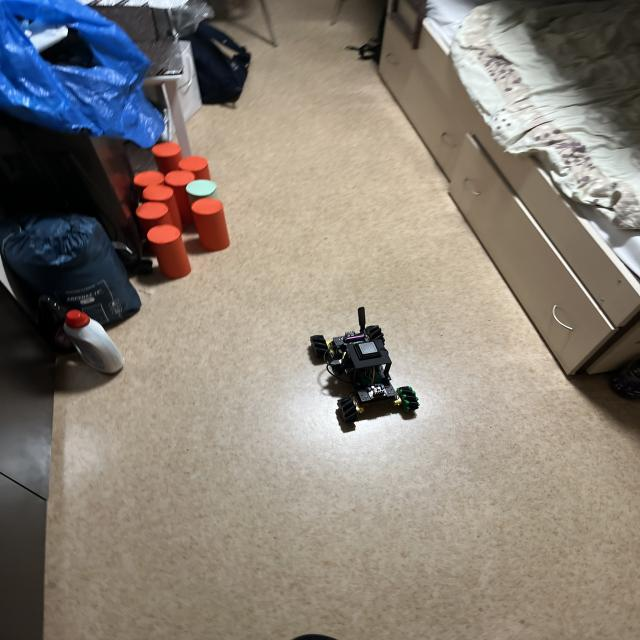robot: (311, 307, 419, 424)
